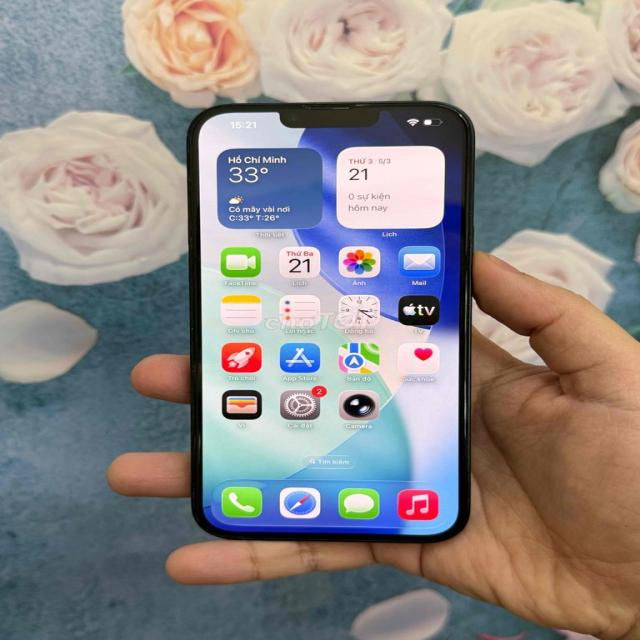gen_14: (176, 95, 482, 559)
